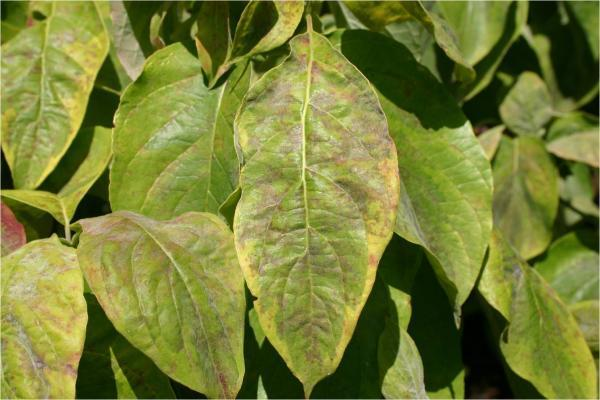Bell_pepper leaf: (234, 28, 402, 400), (376, 33, 496, 326), (73, 214, 252, 400), (100, 51, 264, 219), (481, 227, 600, 396), (1, 8, 109, 189), (1, 229, 84, 400)
